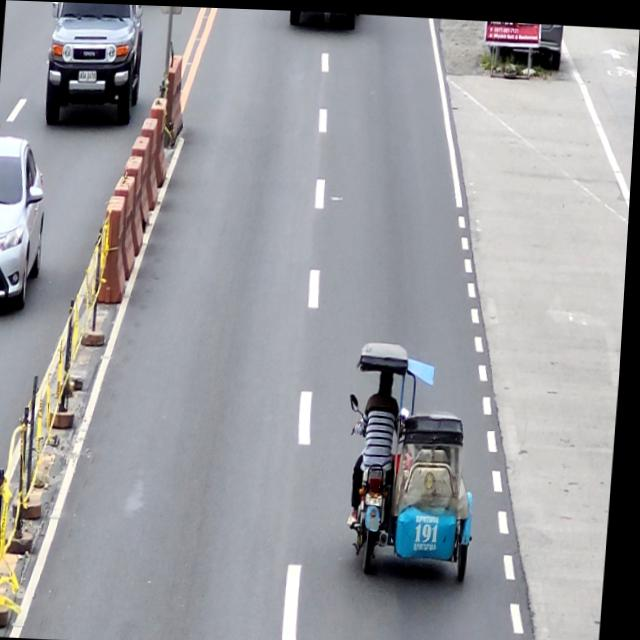License-Plate: (370, 489, 389, 503)
Tricycle: (344, 338, 490, 577)
